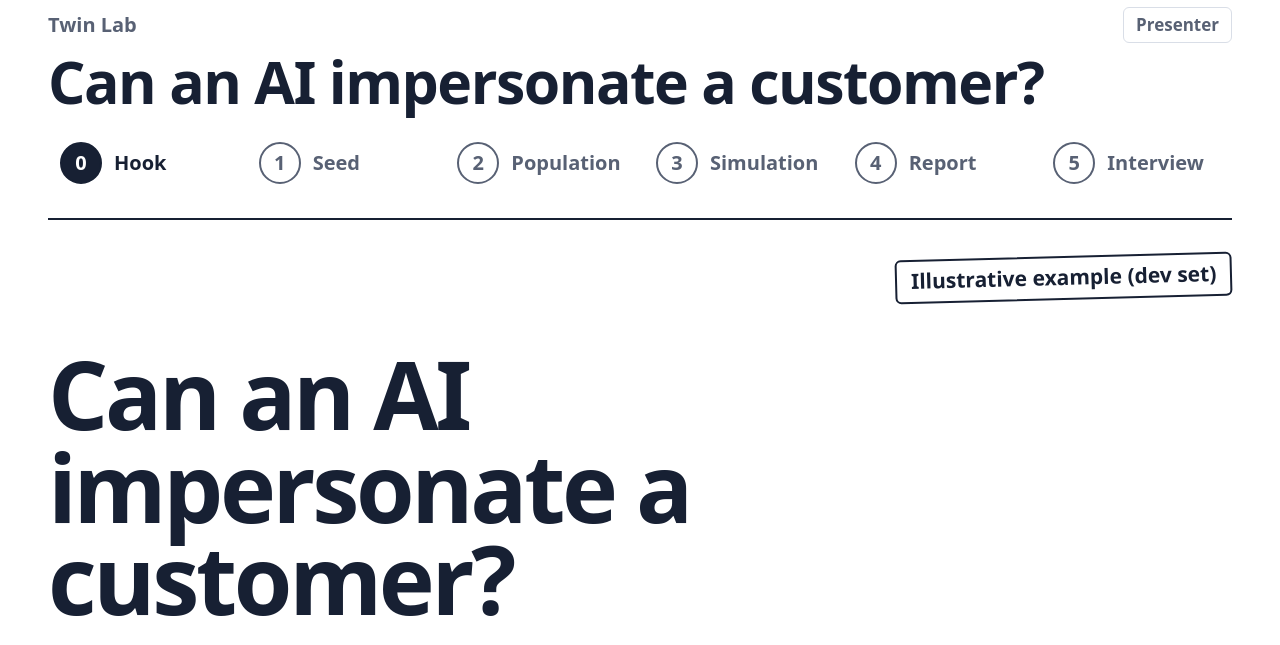
it: Step 1 Seed › starts with no population built (empty, not an error)
The width and height of the screenshot is (1280, 645).
Click the button "1 Seed". click: click(342, 163)
box: [247,132,437,194]
(page scrolled)
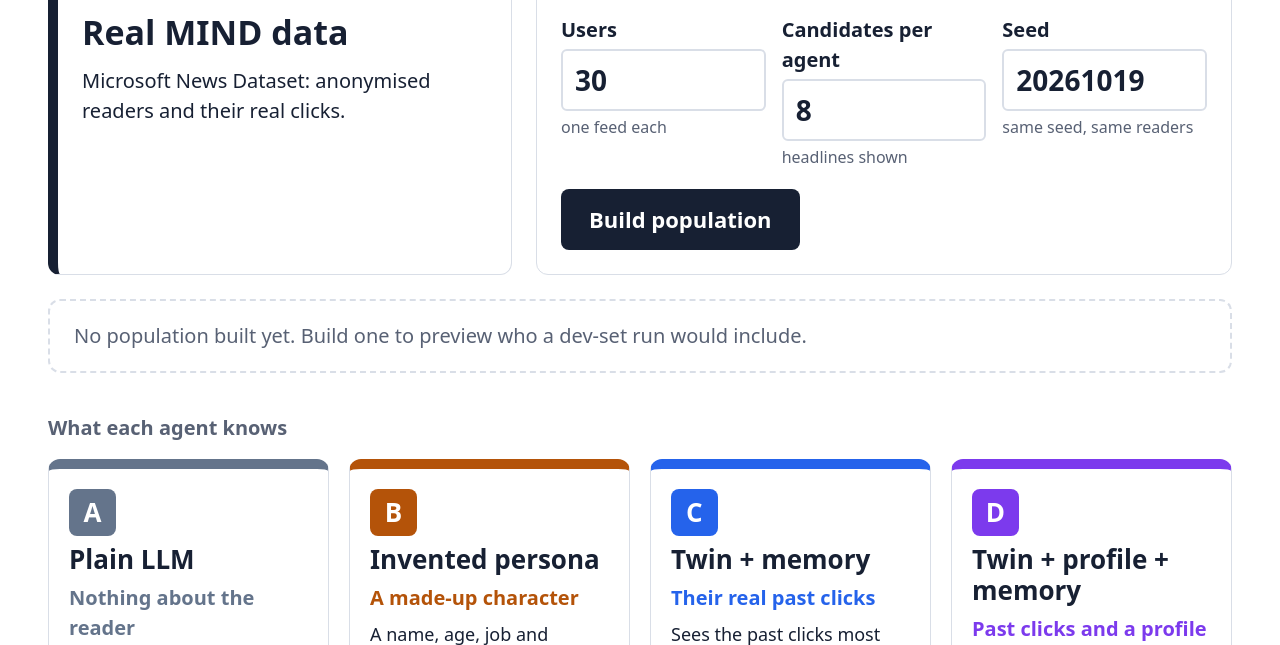
Expected: the text with test id "population-empty" is shown, [48,299,1232,373]
